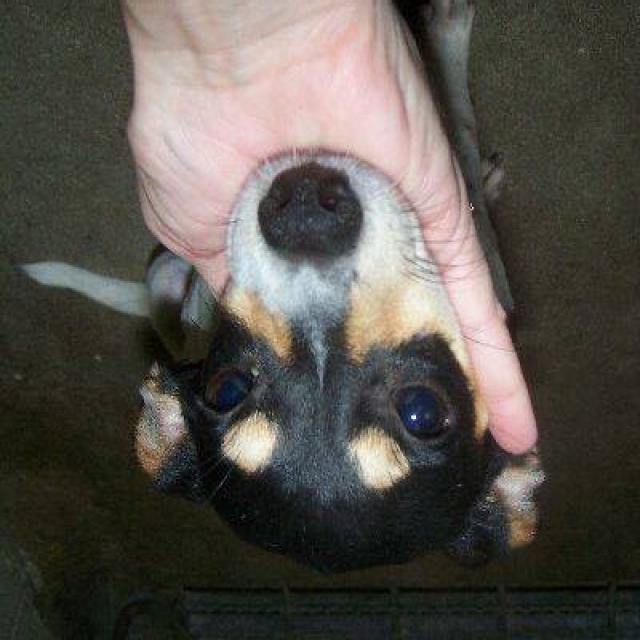dog: (92, 137, 558, 569)
